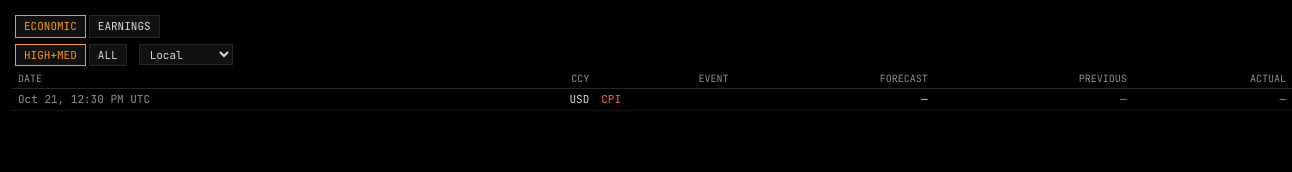
Test case: CalendarWidget › renders official events with missing numbers and odd impact as dashes
expect the text "CPI" is shown: met, box [595,88,735,110]
Click the button "ALL". click: (108, 55)
box: [89,44,127,66]
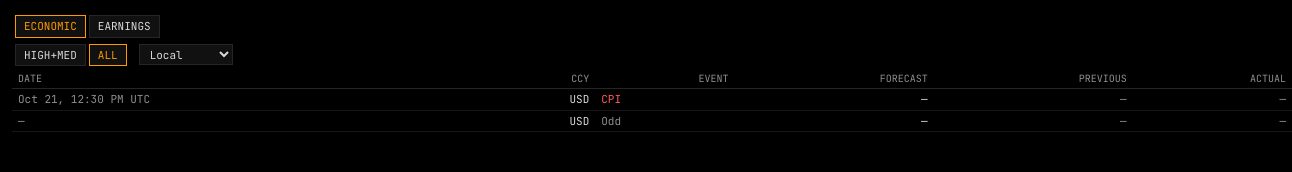
expect the text "Odd" is shown: met, box [595,110,735,132]
